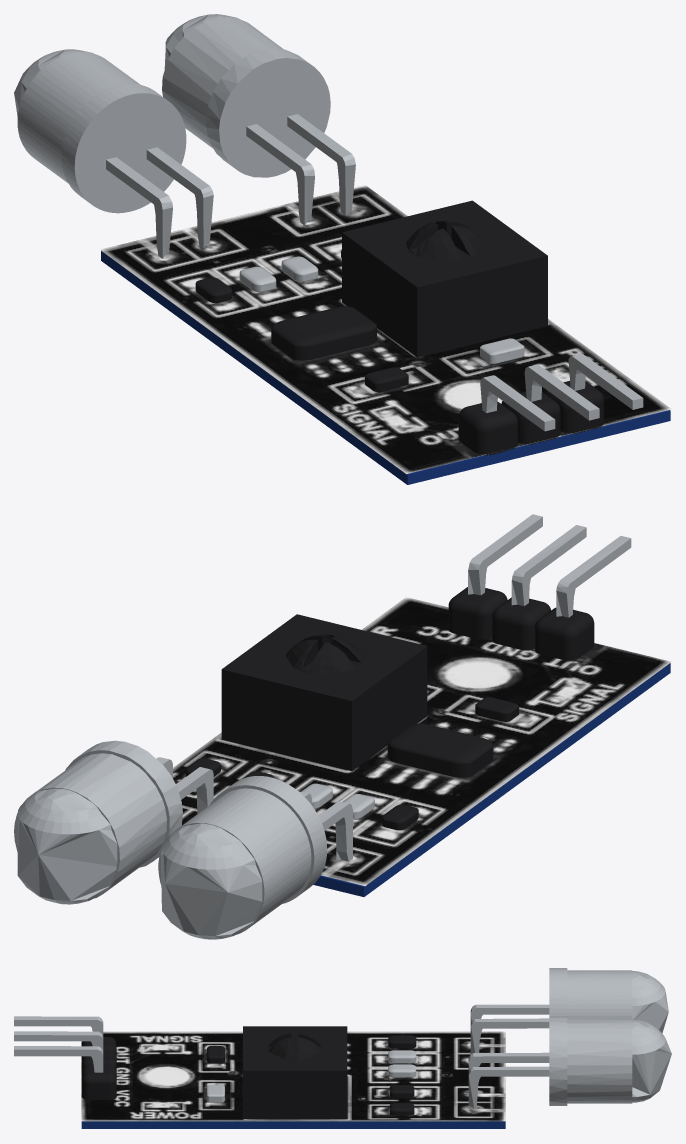
The model's file is ir-sensor.glb.
3 renders of one model, top to bottom at view 1: azimuth 30°, elevation 25°; view 2: azimuth 150°, elevation 25°; view 3: azimuth 270°, elevation 25°, orthographic. The views are drawn at different scales.
Parts seen in each view (by area): view 1: part_5, part_1, part_2, part_0; view 2: part_5, part_1, part_2, part_0; view 3: part_1, part_5, part_2, part_0.
Part boxes in pixels (box(x1,y1,x2,y2)): part_5: box(14, 14, 643, 431); part_1: box(100, 185, 671, 473); part_2: box(195, 200, 604, 455); part_0: box(101, 251, 670, 484); part_5: box(14, 514, 631, 939); part_1: box(173, 597, 671, 886); part_2: box(185, 587, 594, 830); part_0: box(313, 663, 670, 896); part_1: box(81, 1031, 505, 1121); part_5: box(14, 968, 671, 1109); part_2: box(81, 1026, 416, 1118); part_0: box(81, 1121, 505, 1128).
Size of the model in its own units: 1.28 by 0.6484 by 3.98.
5 materials, 2 textured.
